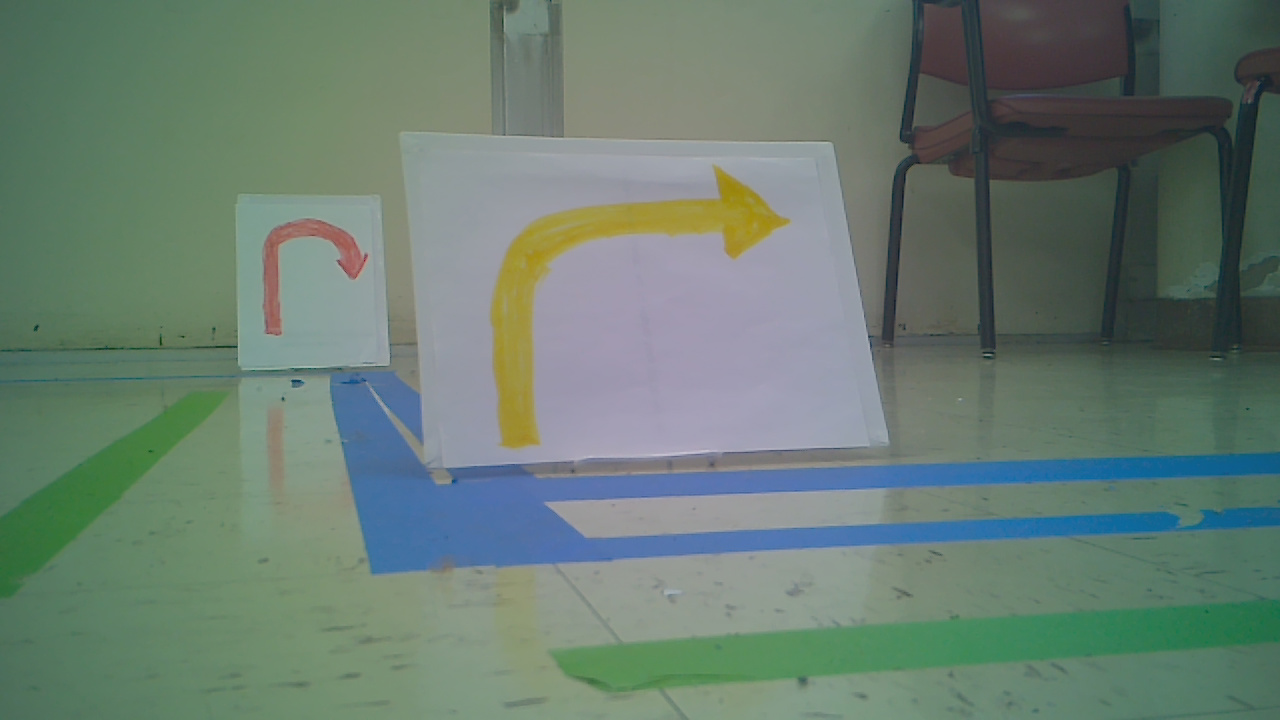greenline: (2, 390, 229, 598)
right: (484, 161, 802, 457)
uturn: (261, 217, 373, 336)
